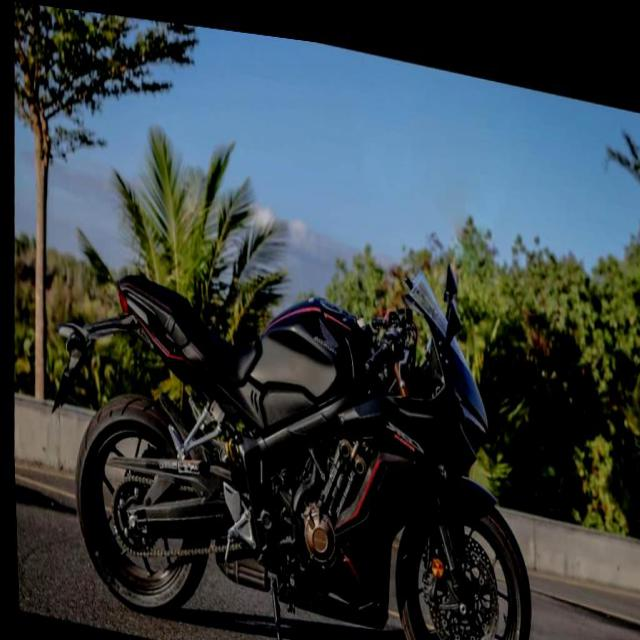CBR650R: (37, 173, 544, 639)
